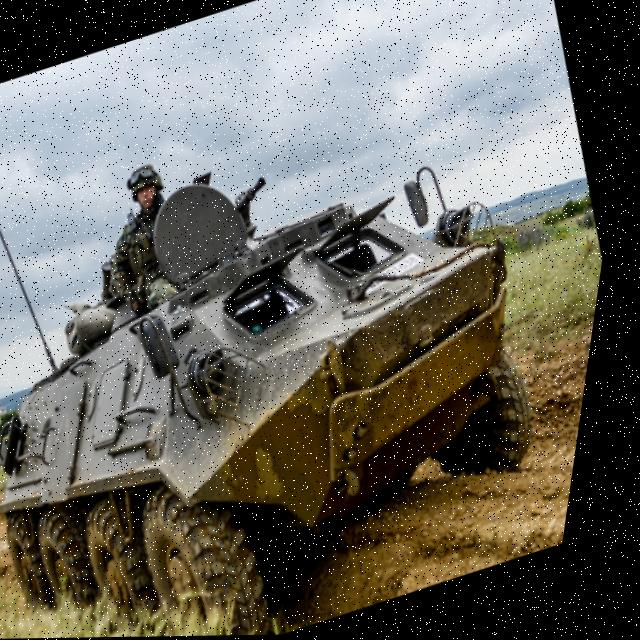MIL_APC: (0, 133, 624, 640)
